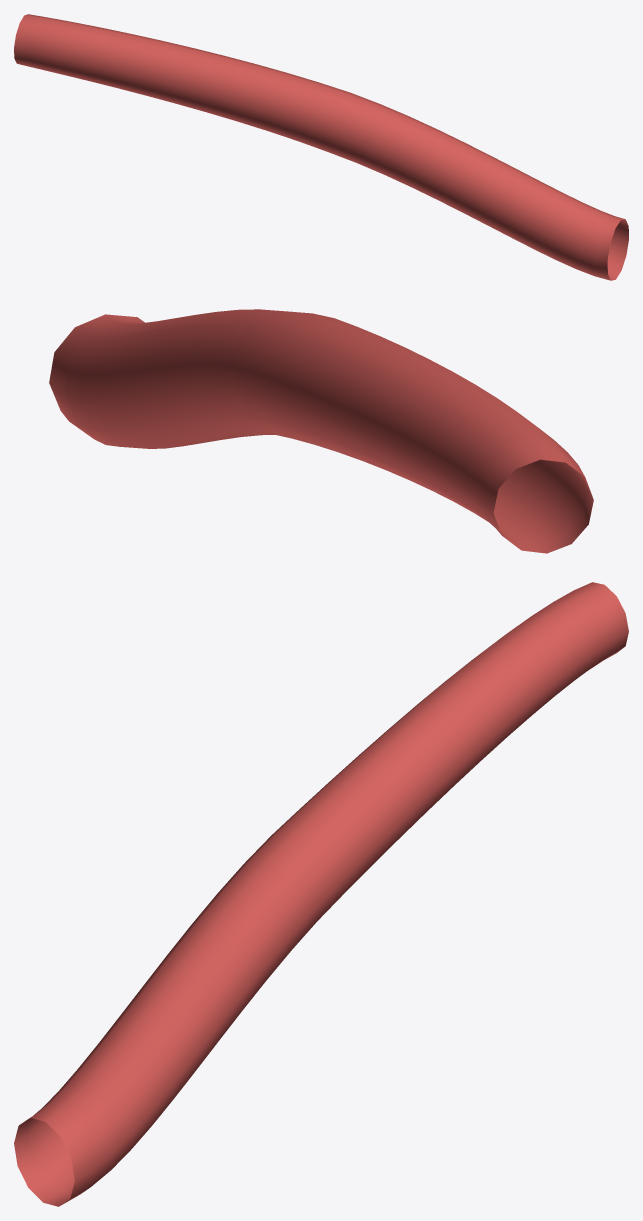
3 renders of one model, top to bottom at view 1: azimuth 30°, elevation 25°; view 2: azimuth 150°, elevation 25°; view 3: azimuth 270°, elevation 25°, orthographic. The views are drawn at different scales.
Parts seen in each view (by area): view 1: 回结肠动脉回肠支; view 2: 回结肠动脉回肠支; view 3: 回结肠动脉回肠支.
Part boxes in pixels (<box>): 回结肠动脉回肠支: <box>14,14,628,280</box>; 回结肠动脉回肠支: <box>49,309,593,553</box>; 回结肠动脉回肠支: <box>14,582,628,1206</box>.
Size of the model in its own units: 0.0355 by 0.017 by 0.0289.
